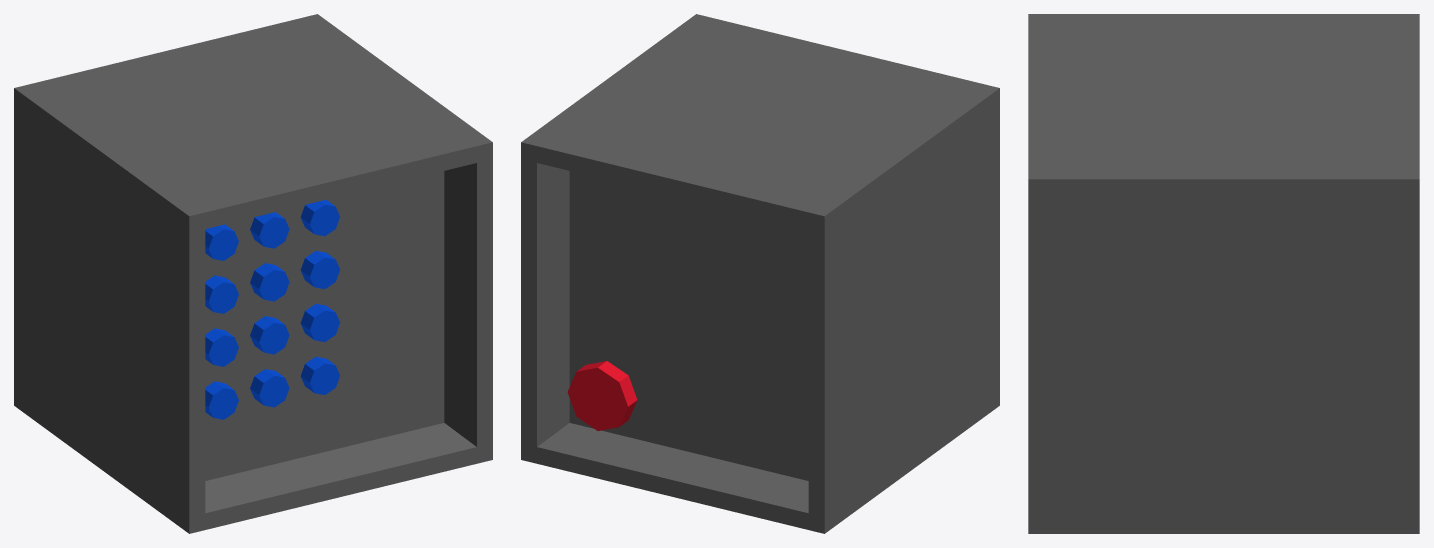
File: powerbox63-1.glb
The picture shows the model from 3 angles, left to right: view 1: azimuth 30°, elevation 25°; view 2: azimuth 150°, elevation 25°; view 3: azimuth 270°, elevation 25°; orthographic projection. The views are drawn at different scales.
Visible parts, largest first — view 1: Powerbox; view 2: Powerbox; view 3: Powerbox.
Part boxes in pixels (x1,y1,x2,y2): Powerbox: (14,14,492,533); Powerbox: (521,14,999,533); Powerbox: (1028,14,1419,533).
Size of the model in its own units: 0.6 by 0.6 by 0.6.
